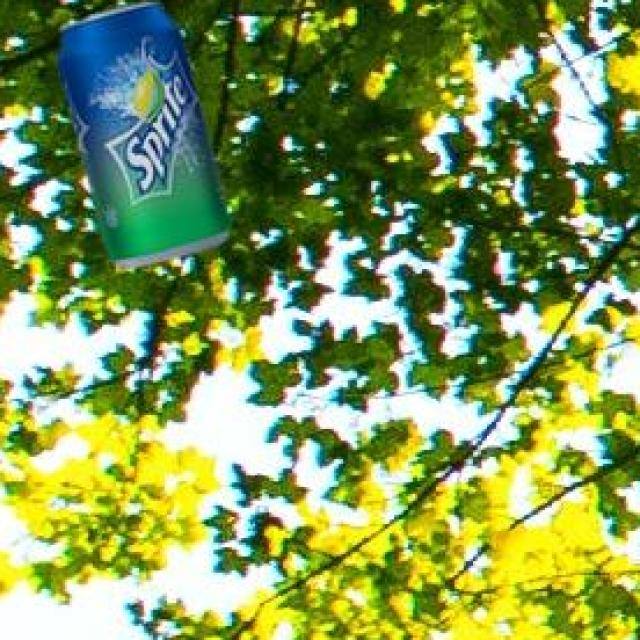logam: (54, 0, 226, 266)
